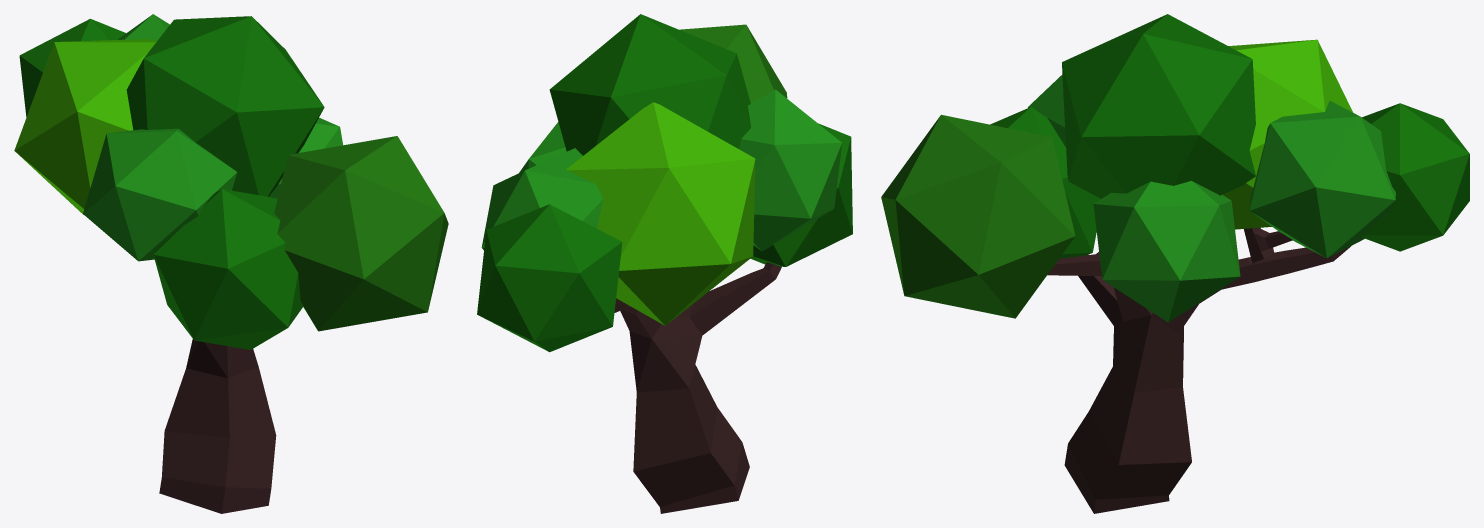
The model's file is Low poly tree 3.glb.
The picture shows the model from 3 angles, left to right: view 1: azimuth 30°, elevation 25°; view 2: azimuth 150°, elevation 25°; view 3: azimuth 270°, elevation 25°; orthographic projection. The views are drawn at different scales.
Parts seen in each view (by area): view 1: Icosphere.014, Icosphere.013, Icosphere.015, Cube.001, Icosphere.010, Icosphere.012, Icosphere.008, Icosphere.011, Icosphere.009; view 2: Icosphere.010, Cube.001, Icosphere.013, Icosphere.008, Icosphere.012, Icosphere.009, Icosphere.015, Icosphere.014, Icosphere.011; view 3: Icosphere.014, Icosphere.013, Cube.001, Icosphere.009, Icosphere.011, Icosphere.008, Icosphere.010, Icosphere.015, Icosphere.012.
Boxes of the visible parts, x1,y1,x2,y2 form: Icosphere.014: (274, 136, 448, 331); Icosphere.013: (126, 16, 324, 196); Icosphere.015: (153, 189, 303, 349); Cube.001: (159, 339, 276, 513); Icosphere.010: (14, 39, 156, 214); Icosphere.012: (83, 128, 237, 261); Icosphere.008: (19, 18, 125, 117); Icosphere.011: (269, 117, 342, 198); Icosphere.009: (117, 14, 169, 41); Icosphere.010: (566, 102, 755, 325); Cube.001: (614, 262, 781, 513); Icosphere.013: (549, 14, 751, 155); Icosphere.008: (477, 204, 622, 352); Icosphere.012: (739, 89, 842, 251); Icosphere.009: (481, 148, 602, 249); Icosphere.015: (750, 123, 852, 266); Icosphere.014: (679, 24, 787, 103); Icosphere.011: (519, 122, 566, 172); Icosphere.014: (881, 114, 1075, 318); Icosphere.013: (1062, 14, 1255, 198); Cube.001: (1047, 227, 1350, 513); Icosphere.009: (1249, 101, 1395, 258); Icosphere.011: (1093, 181, 1240, 322); Icosphere.008: (1362, 103, 1469, 251); Icosphere.010: (1222, 39, 1352, 229); Icosphere.015: (990, 107, 1100, 258); Icosphere.012: (1028, 75, 1065, 146).
Bounding box in the file's own units: 7.75 × 12.24 × 13.51.
